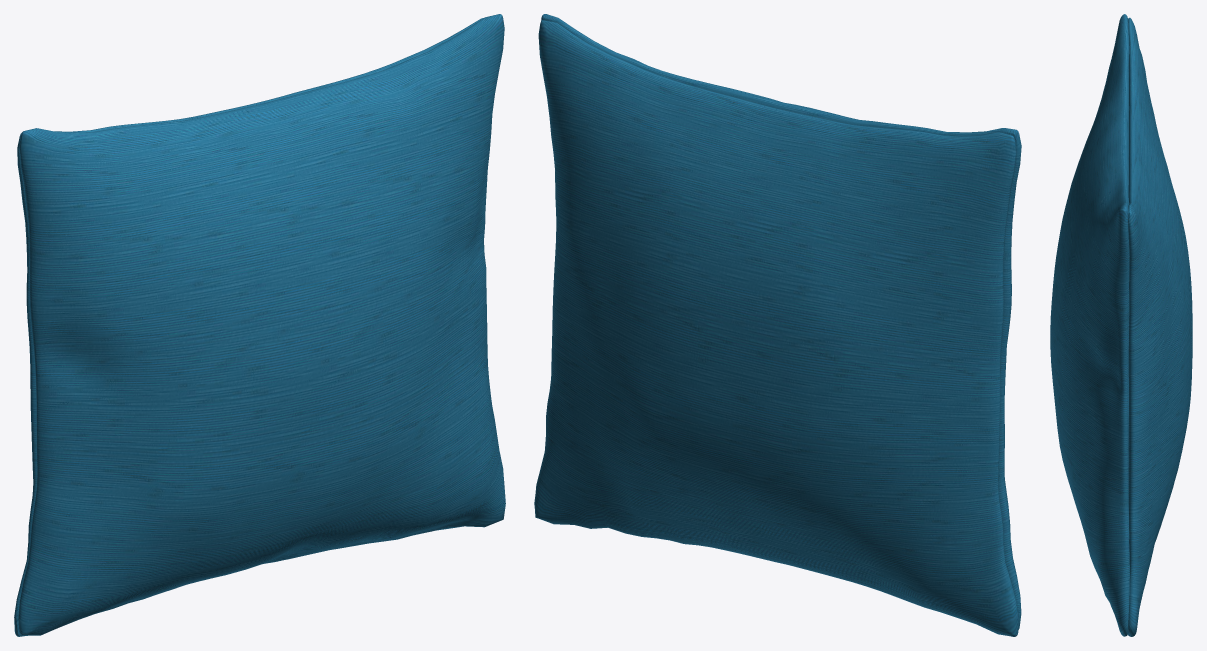
The model's file is candidate.glb.
3 renders of one model, left to right at view 1: azimuth 30°, elevation 25°; view 2: azimuth 150°, elevation 25°; view 3: azimuth 270°, elevation 25°, orthographic. The views are drawn at different scales.
Visible parts, largest first — view 1: RootNode; view 2: RootNode; view 3: RootNode.
Part boxes in pixels (left/top/right/bottom): RootNode: left=14, top=14, right=505, bottom=636; RootNode: left=534, top=14, right=1021, bottom=636; RootNode: left=1050, top=14, right=1192, bottom=636.
Size of the model in its own units: 0.4 by 0.4 by 0.12.
Materials: 1 (1 with a texture image).
